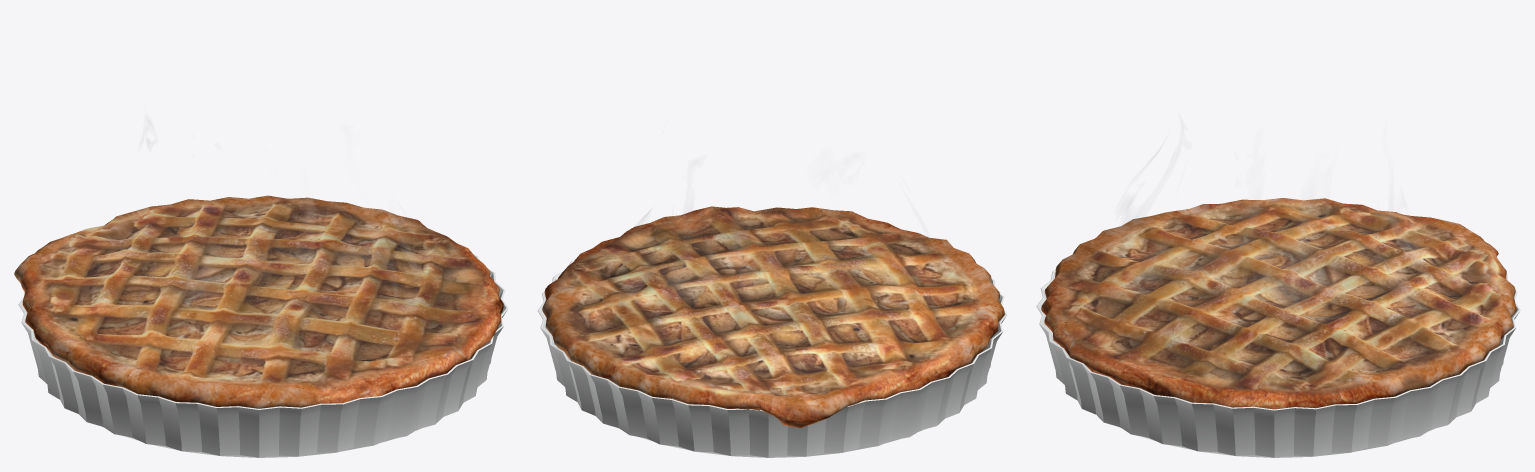
The model's file is 8th__pie_week_2_food__treats.glb.
3 views of the same model, side by side, from view 1: azimuth 30°, elevation 25°; view 2: azimuth 150°, elevation 25°; view 3: azimuth 270°, elevation 25° (orthographic). The views are drawn at different scales.
Parts seen in each view (by area): view 1: Pie_in_work_low; view 2: Pie_in_work_low; view 3: Pie_in_work_low.
Part boxes in pixels (x1,y1,x2,y2): Pie_in_work_low: (14, 195, 508, 457); Pie_in_work_low: (537, 204, 1007, 457); Pie_in_work_low: (1036, 198, 1520, 457).
Size of the model in its own units: 0.3996 by 0.3003 by 0.3996.
1 material, 1 textured.
